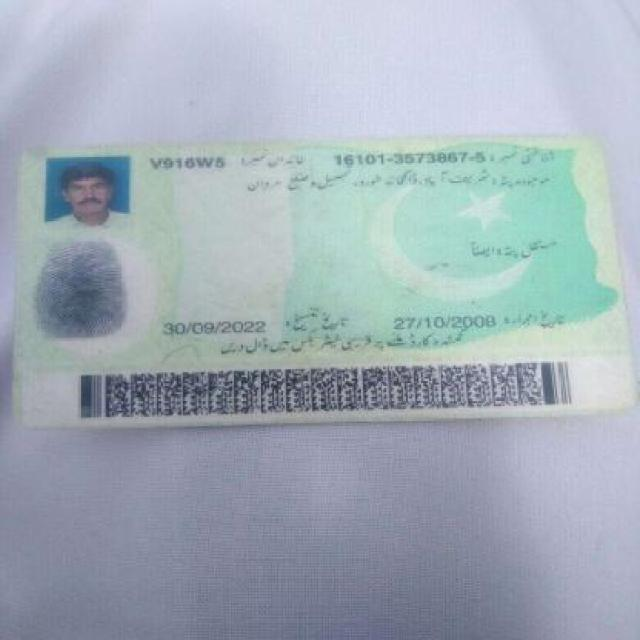Back: (23, 139, 634, 423)
